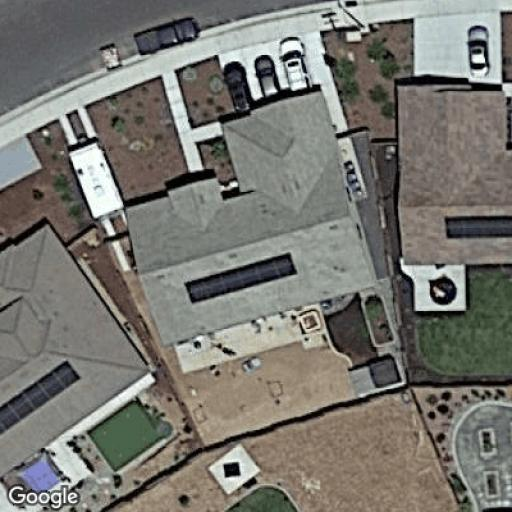solar-panel: (0, 359, 83, 435), (184, 252, 299, 304), (444, 214, 512, 238)
